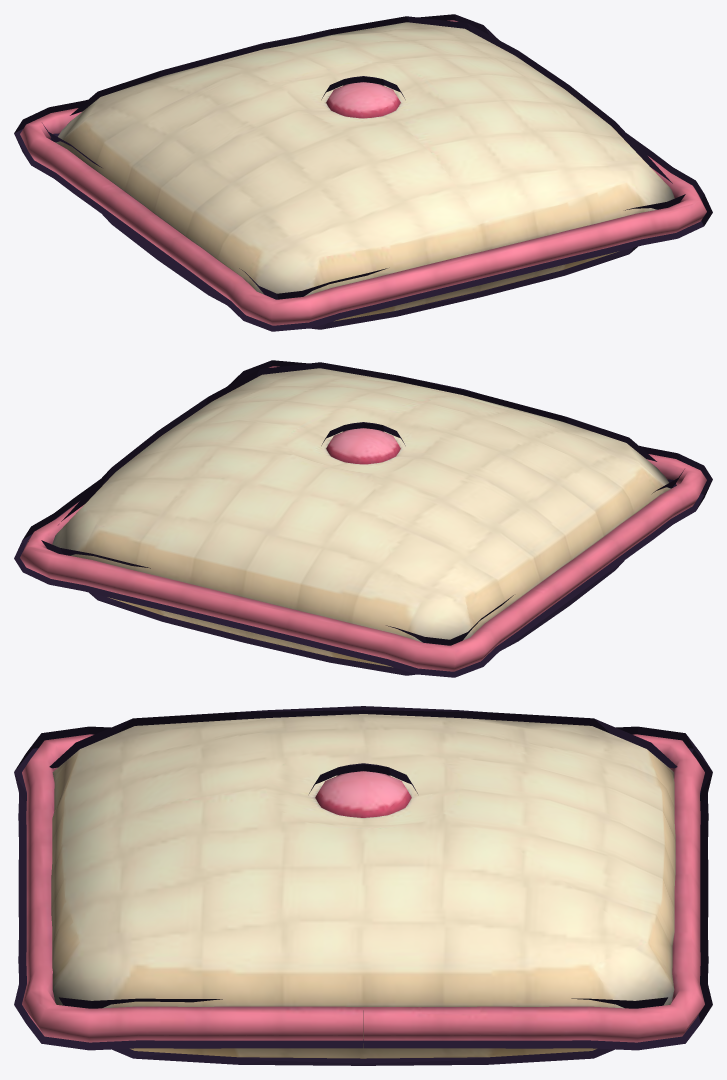
The model's file is SlotCushion.glb.
3 views of the same model, one above another, from view 1: azimuth 30°, elevation 25°; view 2: azimuth 150°, elevation 25°; view 3: azimuth 270°, elevation 25° (orthographic). The views are drawn at different scales.
Visible parts, largest first — view 1: SlotCushion, SlotCushion_Outline; view 2: SlotCushion, SlotCushion_Outline; view 3: SlotCushion, SlotCushion_Outline.
Part boxes in pixels (box(x1,y1,x2,y2)): SlotCushion: box(20, 20, 706, 325); SlotCushion_Outline: box(14, 14, 712, 331); SlotCushion: box(20, 366, 706, 671); SlotCushion_Outline: box(14, 360, 712, 677); SlotCushion: box(22, 714, 704, 1058); SlotCushion_Outline: box(14, 706, 712, 1065).
Bounding box in the file's own units: 6.18 × 1.96 × 6.18.
Materials: 2 (2 with a texture image).
